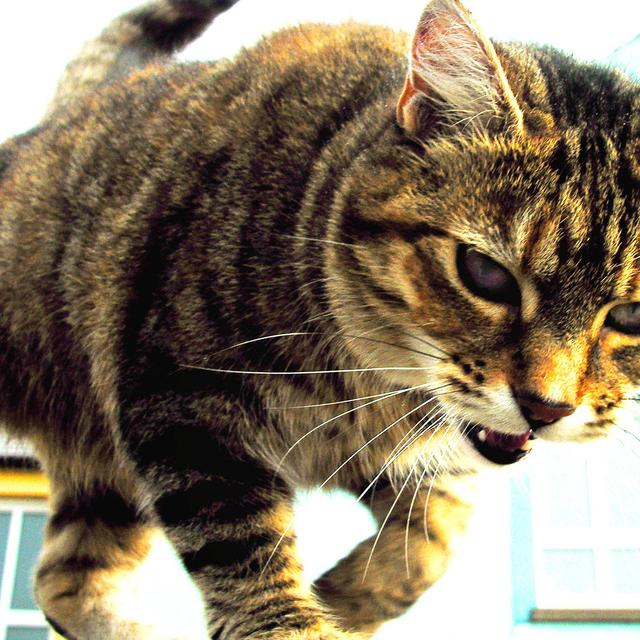animals: (406, 0, 640, 424)
